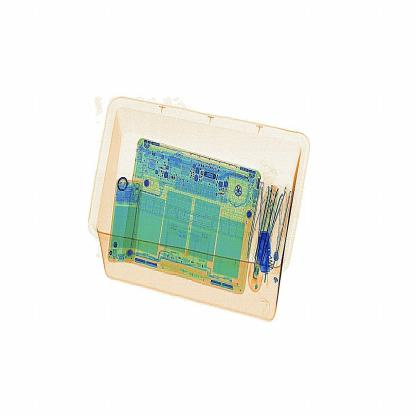scissors: (250, 217, 281, 277)
